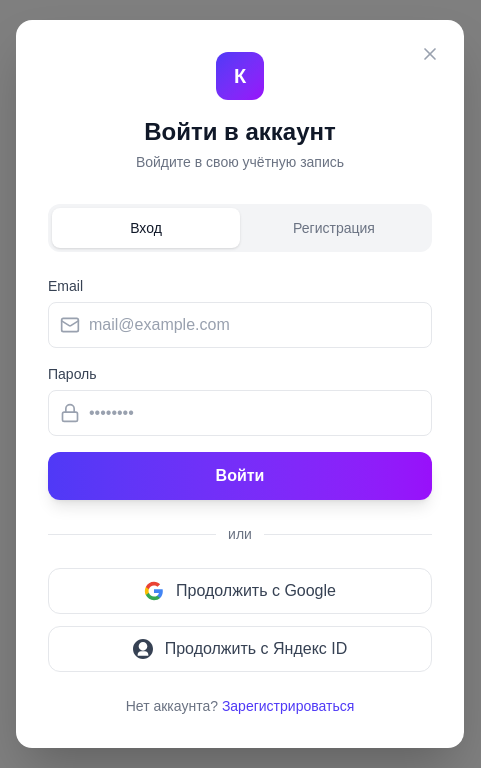
it: AuthModal › registers: submit button disabled until agree checked
The image size is (481, 768).
Click the button "Регистрация" at [334, 228], box [240,208,428,248]
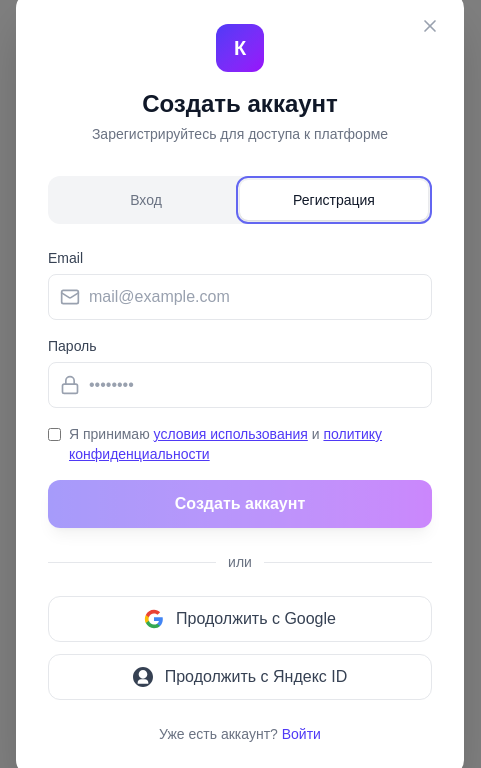
Result: the button "Создать аккаунт" is disabled at [48,480,432,528]
Click the checkbox at [54, 434], box [48,428,61,441]
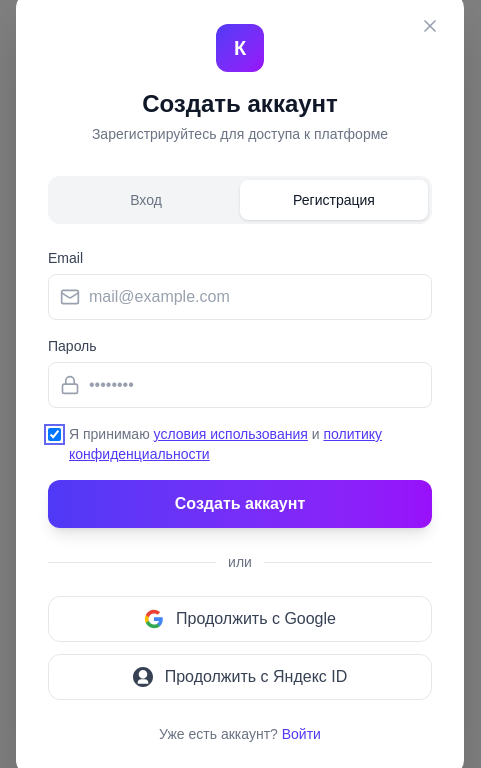
Result: the button "Создать аккаунт" is enabled at [48,480,432,528]
